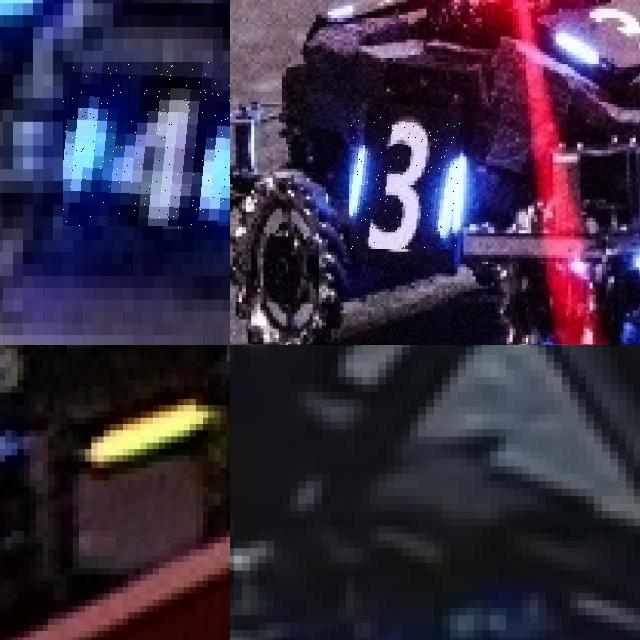B3: (349, 116, 464, 249)
B4: (63, 62, 230, 228)
